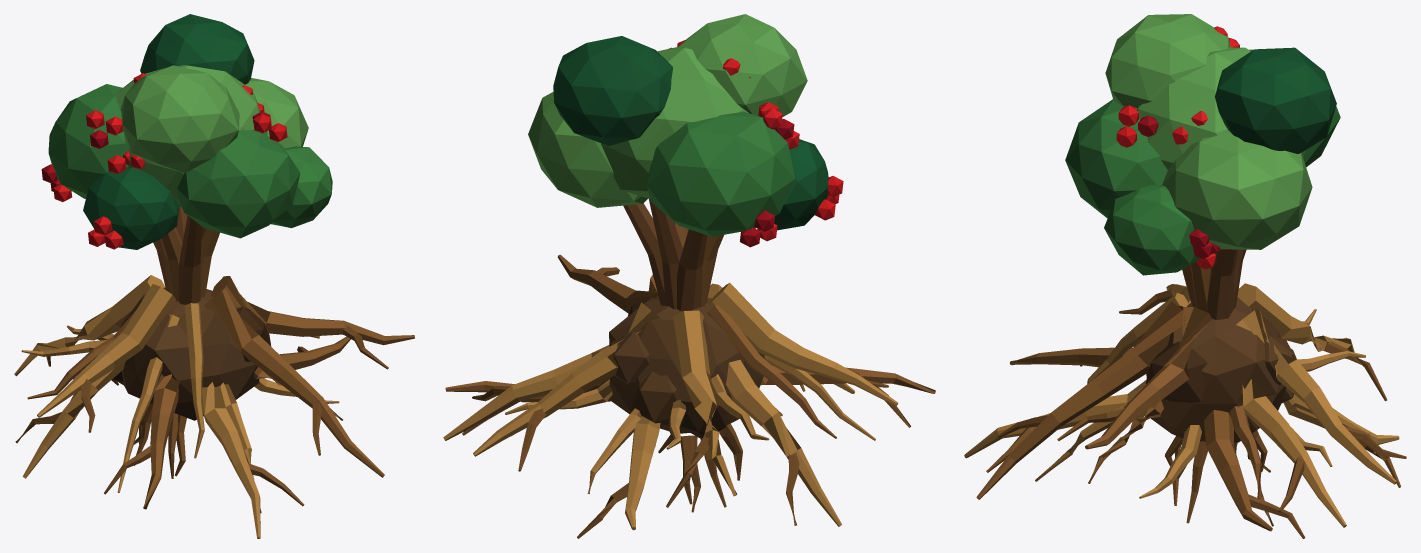
The model's file is stump.glb.
3 renders of one model, left to right at view 1: azimuth 30°, elevation 25°; view 2: azimuth 150°, elevation 25°; view 3: azimuth 270°, elevation 25°, orthographic. The views are drawn at different scales.
Visible parts, largest first — view 1: TownToonStump; view 2: TownToonStump; view 3: TownToonStump.
Boxes of the visible parts, x1,y1,x2,y2 form: TownToonStump: (14,14,414,538); TownToonStump: (443,14,935,538); TownToonStump: (964,14,1406,538).
Size of the model in its own units: 1.02 by 1.11 by 0.9721.
